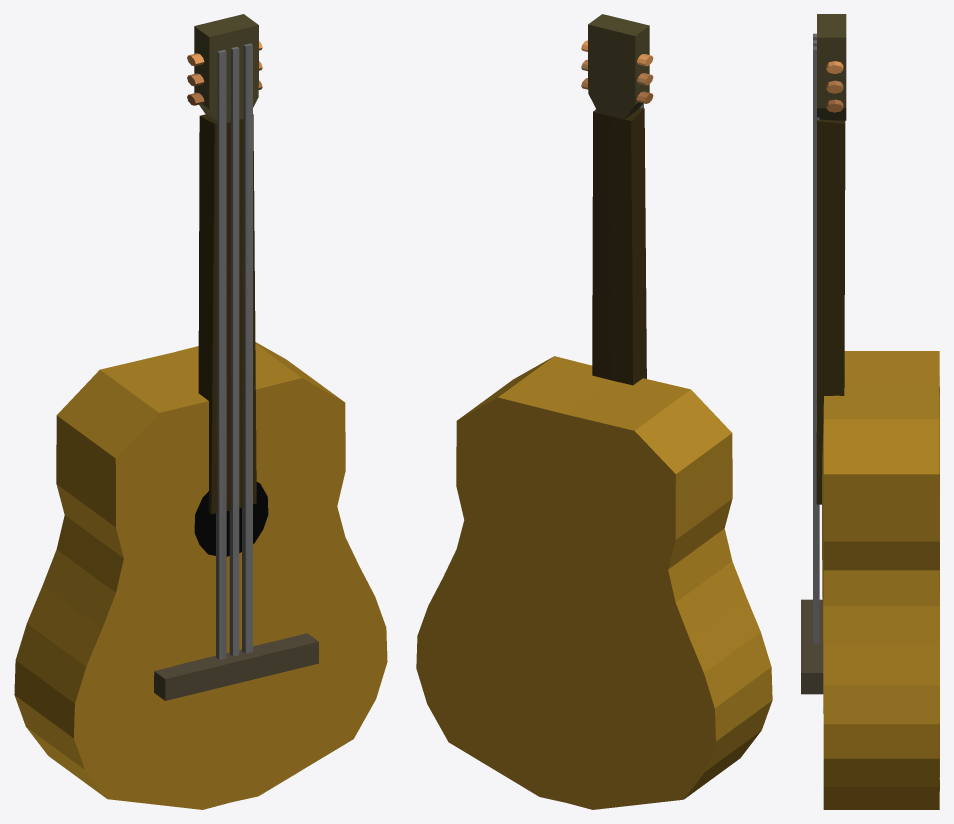
The model's file is Guitarra.fbx.
The picture shows the model from 3 angles, left to right: view 1: azimuth 30°, elevation 25°; view 2: azimuth 150°, elevation 25°; view 3: azimuth 270°, elevation 25°; orthographic projection. The views are drawn at different scales.
Visible parts, largest first — view 1: Guitarra; view 2: Guitarra; view 3: Guitarra.
Boxes of the visible parts, <box> form: Guitarra: <box>14,14,387,809</box>; Guitarra: <box>416,14,772,809</box>; Guitarra: <box>801,14,939,809</box>.
Bounding box in the file's own units: 6085 × 14358 × 2384.
